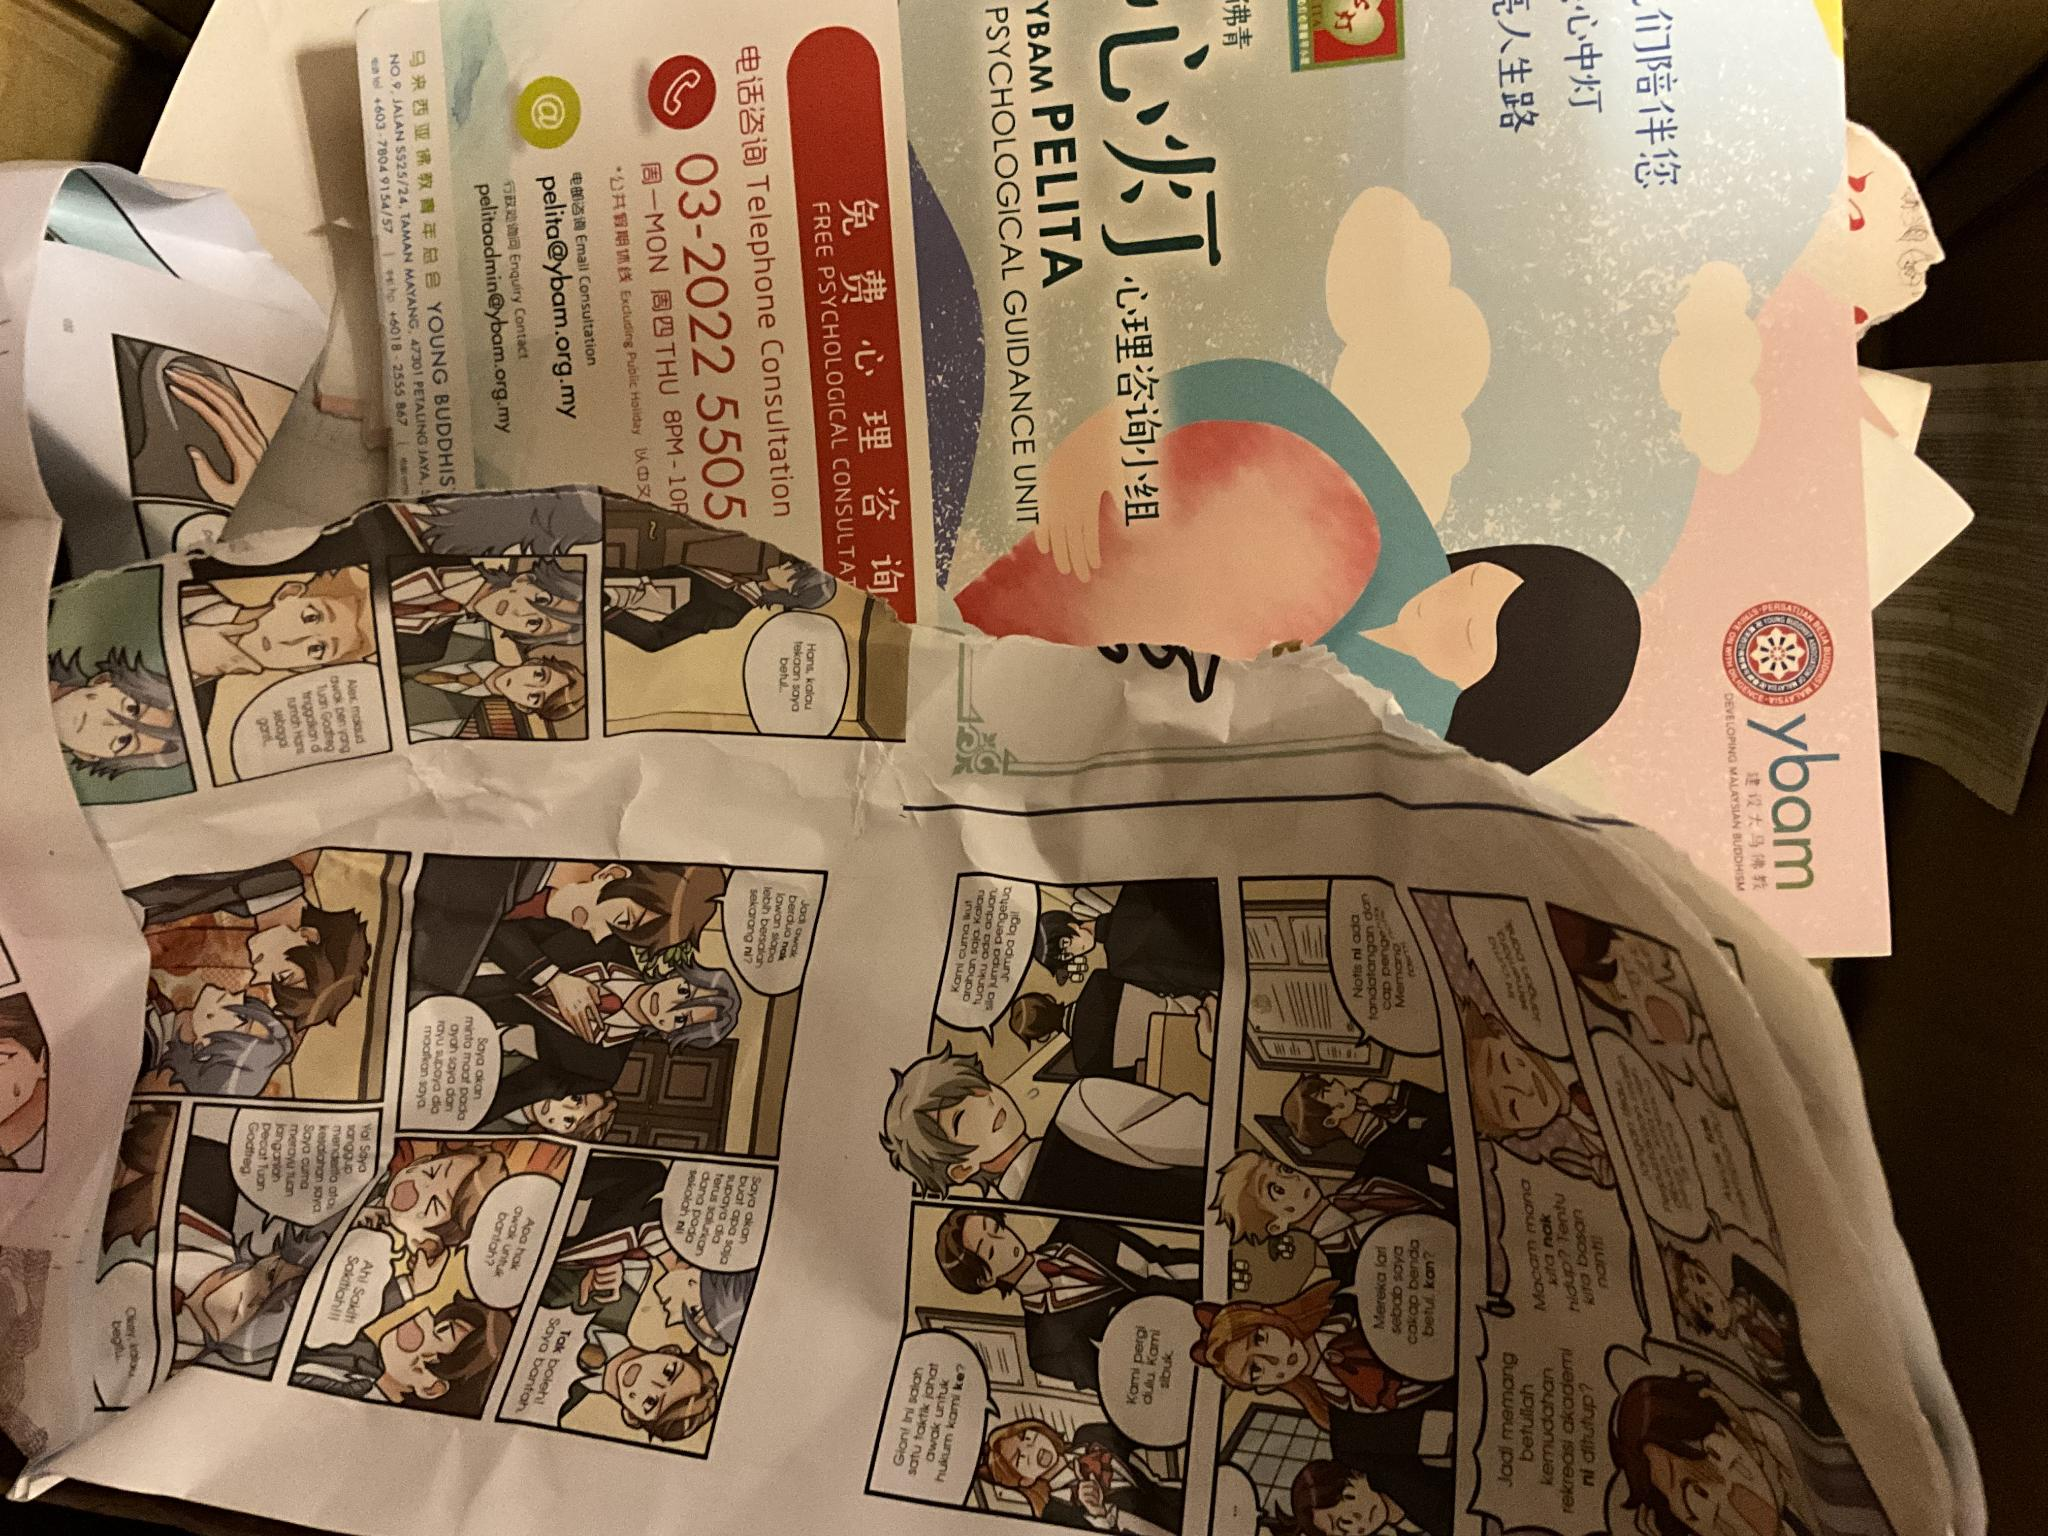paper: (0, 0, 2046, 1534), (153, 0, 1934, 721)
